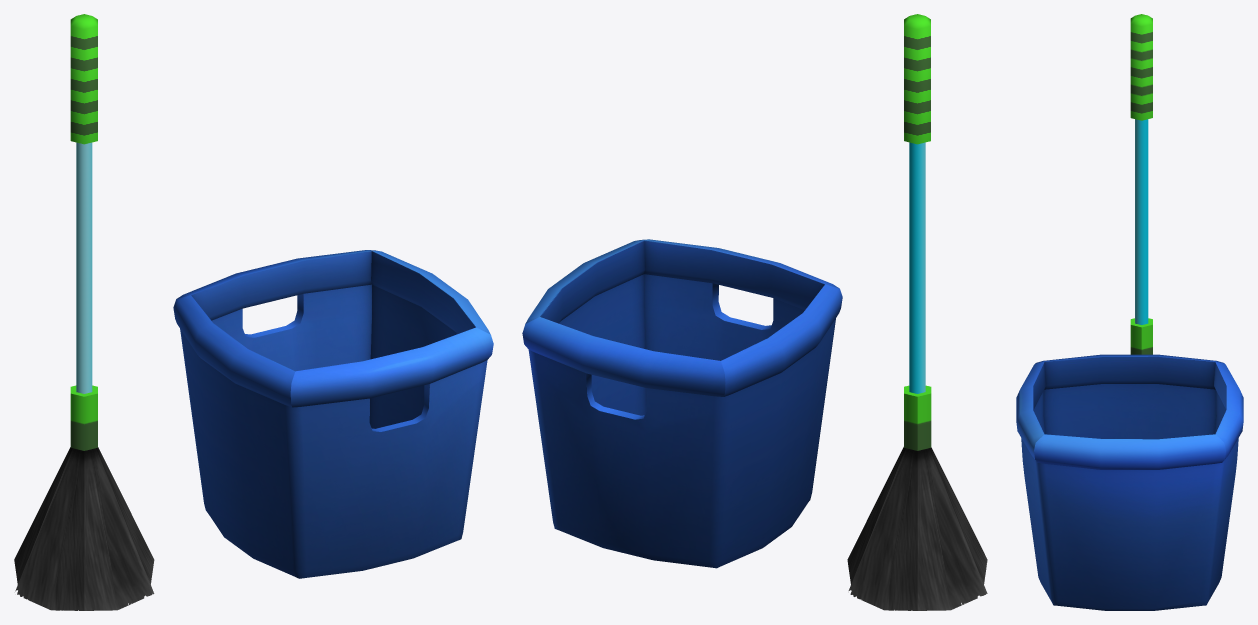
The model's file is Dusting Props.FBX.
3 views of the same model, side by side, from view 1: azimuth 30°, elevation 25°; view 2: azimuth 150°, elevation 25°; view 3: azimuth 270°, elevation 25° (orthographic). The views are drawn at different scales.
Visible parts, largest first — view 1: Plastic Bin, Broom001; view 2: Plastic Bin, Broom001; view 3: Plastic Bin, Broom001.
Part boxes in pixels (x1,y1,x2,y2): Plastic Bin: (173,250,493,578); Broom001: (14,14,154,610); Plastic Bin: (522,239,842,568); Broom001: (847,14,987,610); Plastic Bin: (1016,354,1243,610); Broom001: (1130,14,1152,354).
Size of the model in its own units: 53.75 by 67.4 by 29.82.
2 materials, 2 textured.
